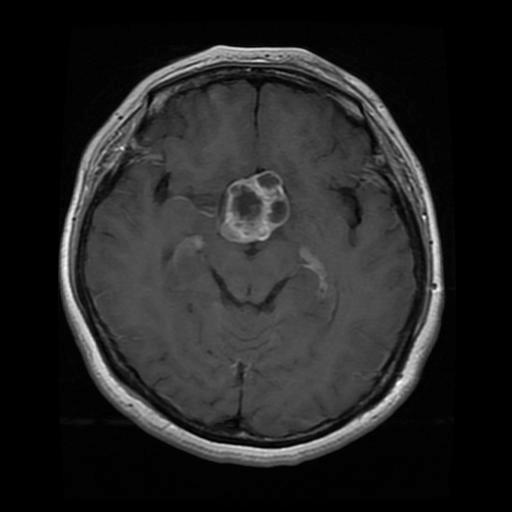Tumour-Pituitary: (212, 161, 293, 257)
